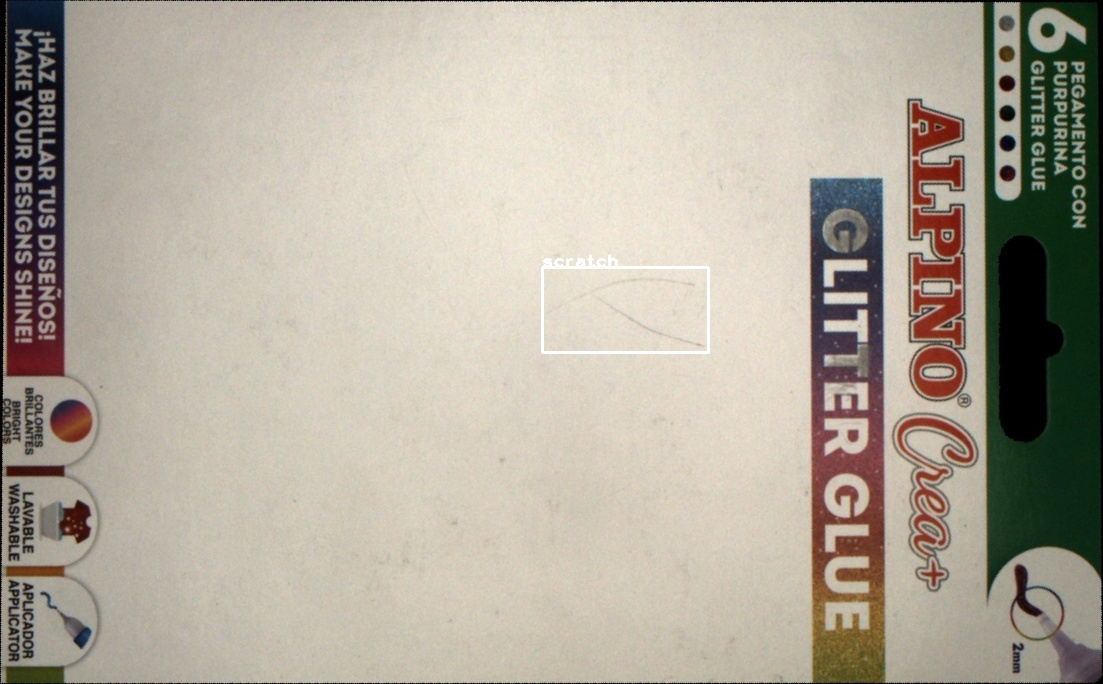scratch: (542, 267, 708, 352)
